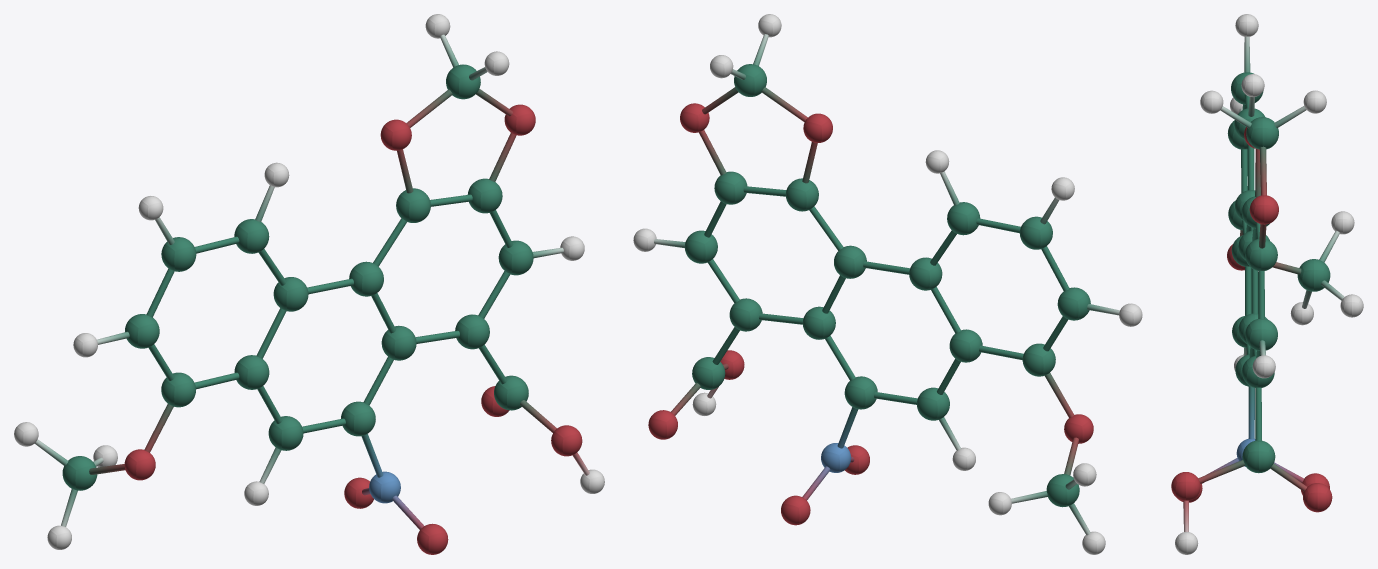
Rendered from Aristolochic Acid.fbx.
3 views of the same model, side by side, from view 1: azimuth 30°, elevation 25°; view 2: azimuth 150°, elevation 25°; view 3: azimuth 270°, elevation 25° (orthographic). The views are drawn at different scales.
Parts seen in each view (by area): view 1: curMeshHyperballExportedMesh; view 2: curMeshHyperballExportedMesh; view 3: curMeshHyperballExportedMesh.
Boxes of the visible parts, x1,y1,x2,y2 form: curMeshHyperballExportedMesh: (14, 14, 604, 554); curMeshHyperballExportedMesh: (633, 14, 1142, 554); curMeshHyperballExportedMesh: (1171, 14, 1363, 554).
Bounding box in the file's own units: 9.83 × 8.49 × 3.31.
